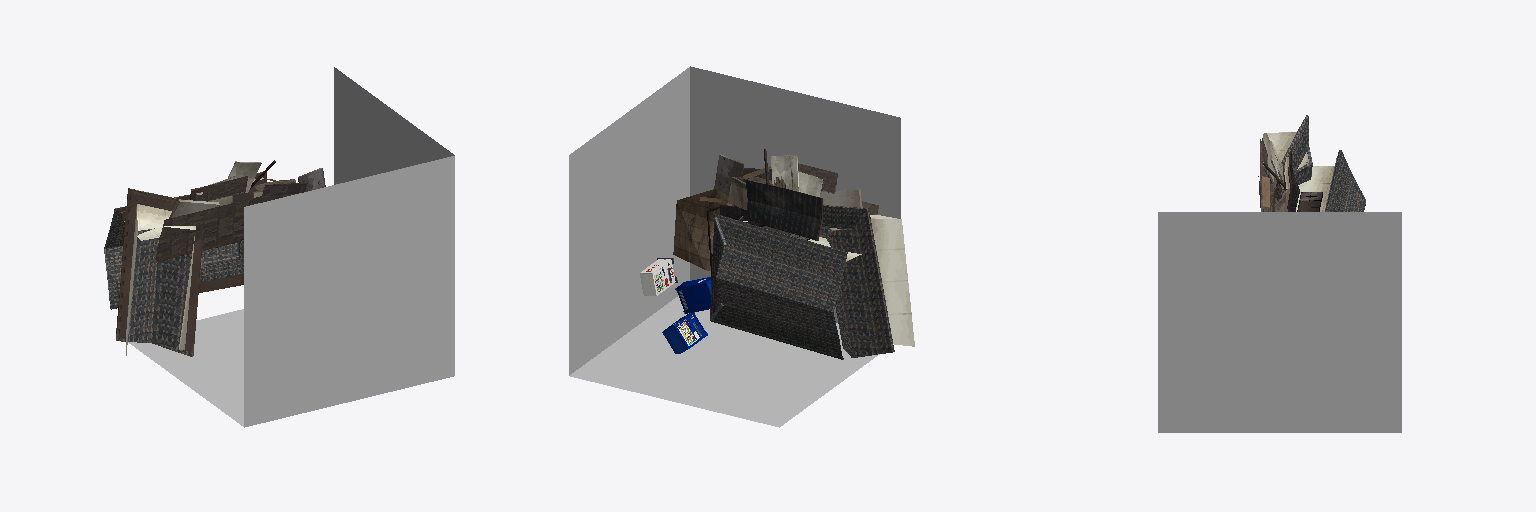
3 views of the same model, side by side, from view 1: azimuth 30°, elevation 25°; view 2: azimuth 150°, elevation 25°; view 3: azimuth 270°, elevation 25° (orthographic).
Parts seen in each view (by area): view 1: Cube.007_Cube.013, Cube.008, Cube, Plane.003, Plane.005, Plane.004; view 2: Cube.007_Cube.013, Cube, Cube.008, Cube.002, Plane.002, Plane.007, Plane.011, Plane.009, Cube.006, Cube.012, Cube.011, Cube.004; view 3: Cube.007_Cube.013, Cube, Cube.008, Cube.002.
Part boxes in pixels (x1,y1,x2,y2): Cube.007_Cube.013: (128, 67, 454, 427); Cube.008: (116, 188, 202, 356); Cube: (104, 195, 243, 309); Plane.003: (153, 188, 293, 262); Plane.005: (201, 176, 247, 201); Plane.004: (260, 183, 307, 202); Cube.007_Cube.013: (569, 66, 900, 427); Cube: (710, 214, 861, 359); Cube.008: (821, 205, 914, 357); Cube.002: (746, 180, 822, 240); Plane.002: (673, 166, 770, 270); Plane.007: (662, 313, 707, 353); Plane.011: (676, 277, 711, 313); Plane.009: (640, 259, 675, 295); Cube.006: (771, 155, 799, 191); Cube.012: (714, 154, 743, 195); Cube.011: (820, 189, 862, 207); Cube.004: (728, 177, 763, 209); Cube.007_Cube.013: (1158, 212, 1401, 432); Cube: (1296, 150, 1365, 211); Cube.008: (1267, 115, 1312, 201); Cube.002: (1284, 150, 1299, 211).
Bounding box in the file's own units: 12.44 × 9.56 × 9.48.
Materials: 4 (3 with a texture image).